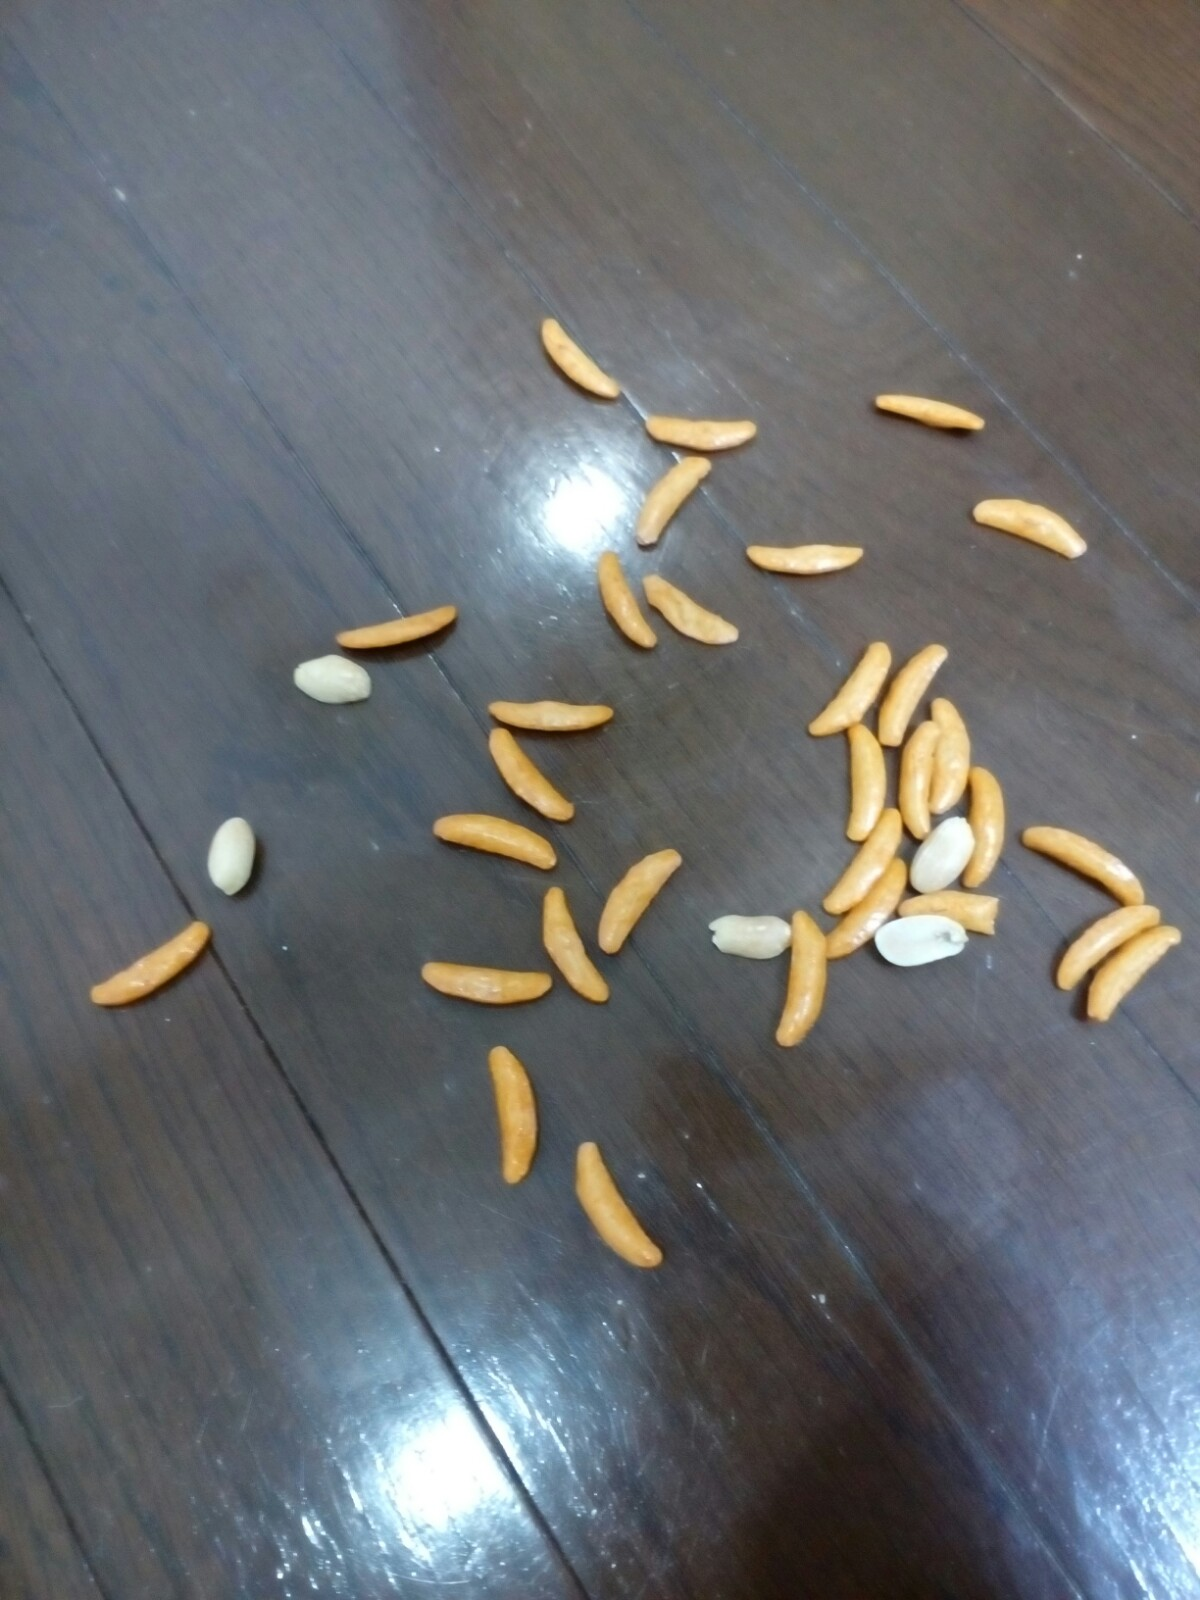peanut: (867, 897, 984, 978), (903, 808, 982, 905), (707, 893, 799, 970), (292, 643, 377, 716), (203, 813, 267, 906)
